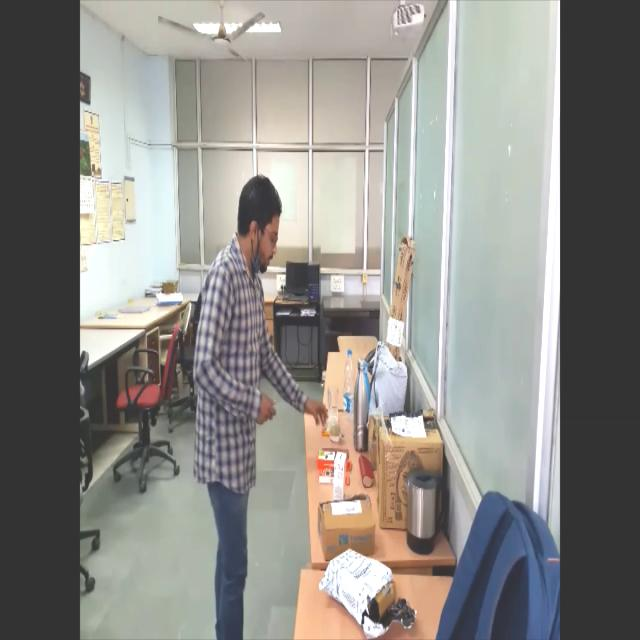normal: (190, 172, 341, 640)
